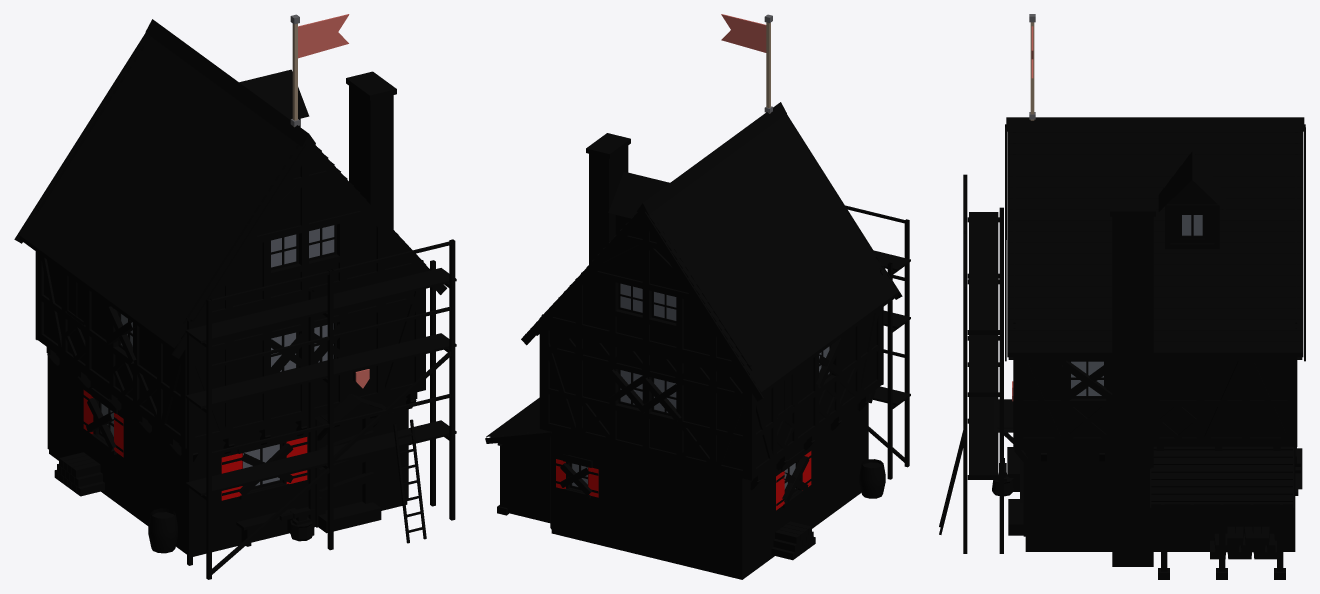
File: wohnhaus_zwerg_s2_g3.glb
The picture shows the model from 3 angles, left to right: view 1: azimuth 30°, elevation 25°; view 2: azimuth 150°, elevation 25°; view 3: azimuth 270°, elevation 25°; orthographic projection. The views are drawn at different scales.
Visible parts, largest first — view 1: Haus, Dach, Geruest, Leerstand, Scheiben, Fahne; view 2: Haus, Dach, Geruest, Leerstand, Scheiben, Fahne; view 3: Dach, Haus, Geruest, Leerstand, Scheiben, Fahne.
Part boxes in pixels (x1,y1,x2,y2): Haus: [35, 36, 425, 556]; Dach: [14, 19, 446, 358]; Geruest: [185, 239, 456, 579]; Leerstand: [86, 306, 374, 498]; Scheiben: [101, 225, 334, 485]; Fahne: [290, 14, 349, 127]; Haus: [497, 117, 885, 579]; Dach: [485, 102, 902, 443]; Geruest: [845, 205, 910, 479]; Leerstand: [559, 338, 843, 502]; Scheiben: [572, 283, 829, 489]; Fahne: [721, 14, 772, 113]; Dach: [1005, 117, 1305, 507]; Haus: [992, 132, 1298, 579]; Geruest: [939, 174, 1003, 553]; Leerstand: [1008, 357, 1302, 502]; Scheiben: [1071, 215, 1202, 395]; Fahne: [1029, 14, 1035, 120].
Bounding box in the file's own units: 7.73 × 11.75 × 8.03.
